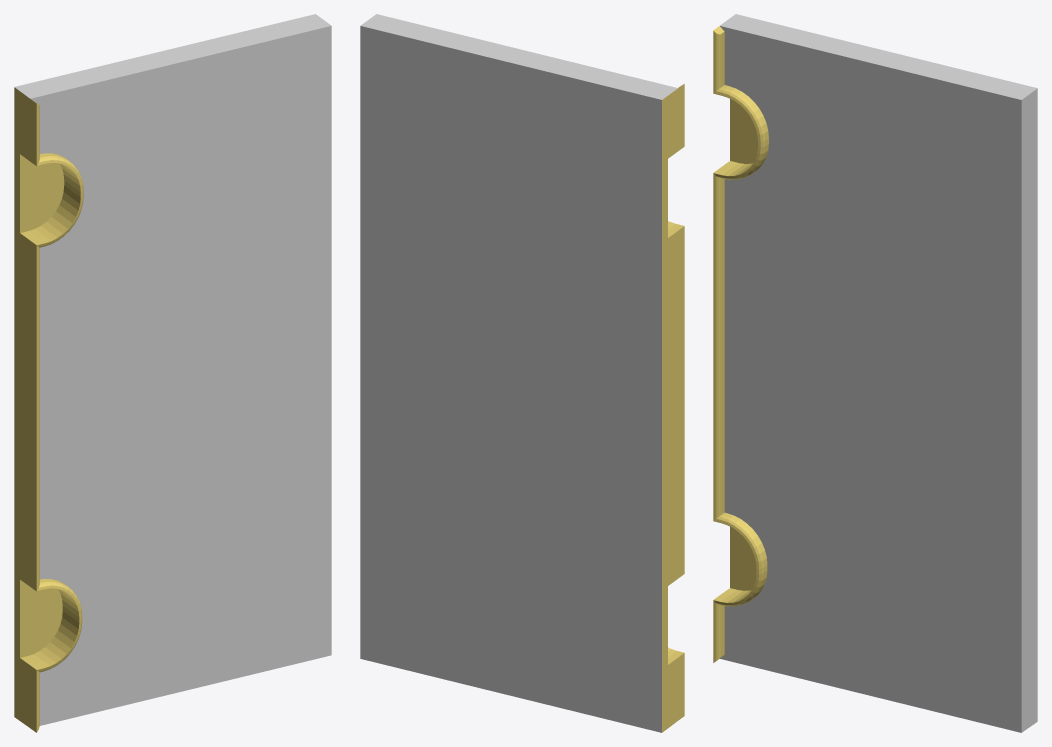
Rendered from RightDoorUpdated.fbx.
3 renders of one model, left to right at view 1: azimuth 30°, elevation 25°; view 2: azimuth 150°, elevation 25°; view 3: azimuth 330°, elevation 25°, orthographic.
Parts seen in each view (by area): view 1: RightDoor; view 2: RightDoor; view 3: RightDoor.
Part boxes in pixels (left/top/right/bottom): RightDoor: left=14, top=14, right=331, bottom=732; RightDoor: left=360, top=14, right=684, bottom=732; RightDoor: left=713, top=14, right=1037, bottom=732.
Bounding box in the file's own units: 200 × 25.83 × 400.
